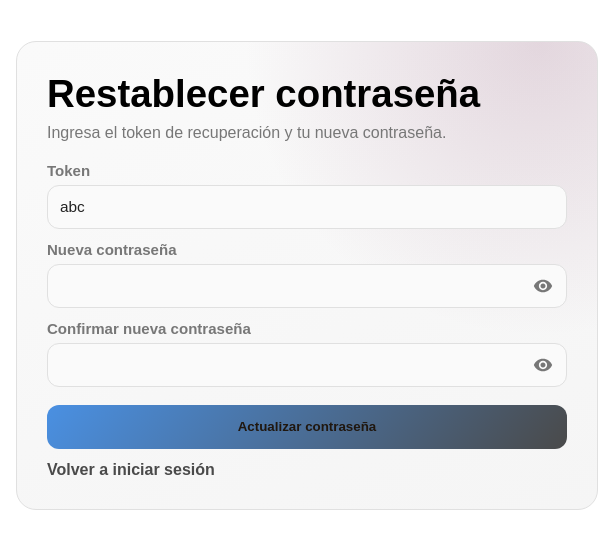
Scenario: ResetPasswordView › valida y restablece
This screenshot has width=615, height=552.
Click the button "Actualizar contraseña" at (307, 426), box [47, 404, 567, 448]
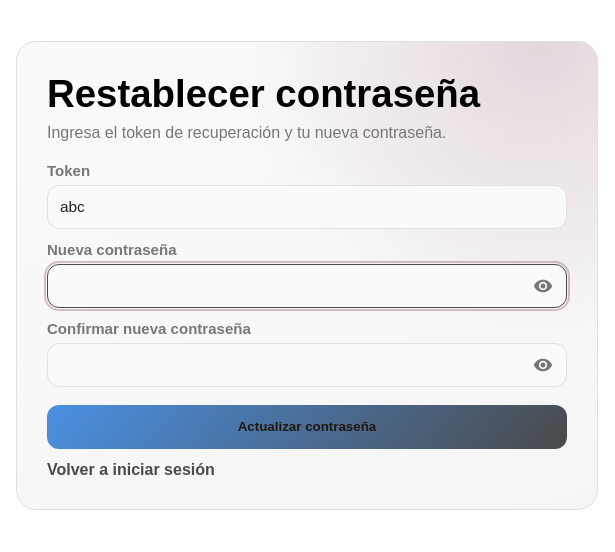
Type "Secret123" into the password field labelled "Nueva contraseña" at (307, 286), box [47, 264, 567, 308]
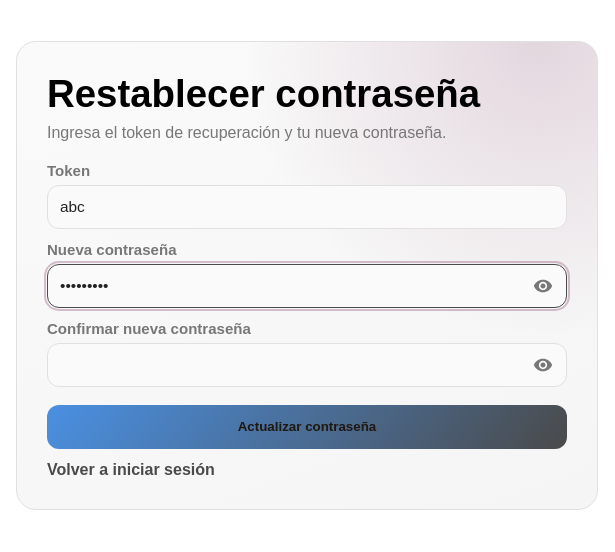
Type "Secret123" into the password field labelled "Confirmar nueva contraseña" at (307, 364), box [47, 342, 567, 386]
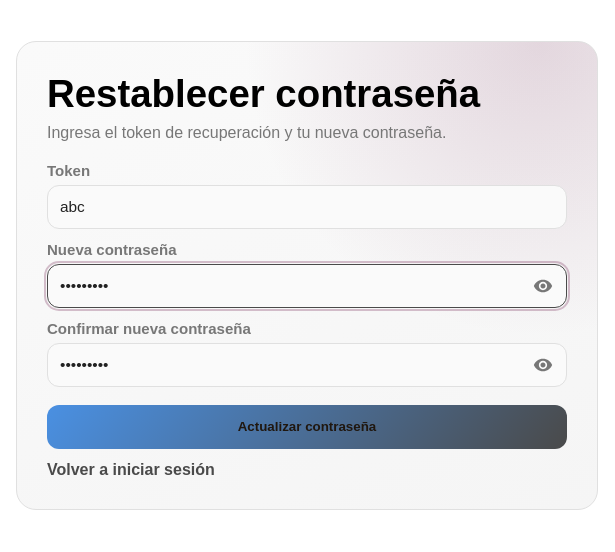
Click the button "Actualizar contraseña" at (307, 426), box [47, 404, 567, 448]
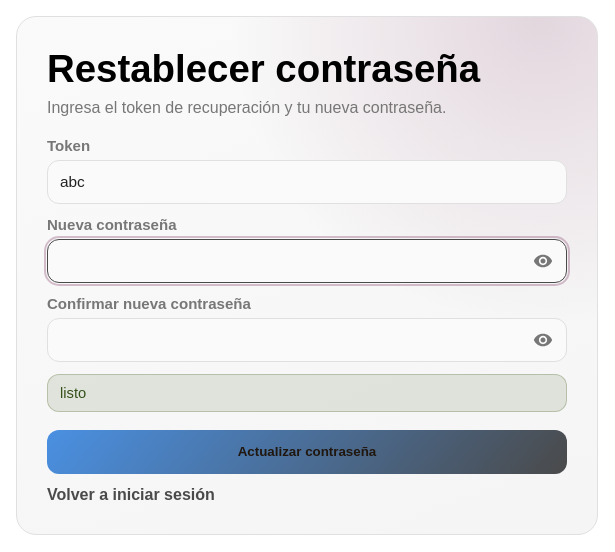
Expected: the text "listo" is shown, [47, 374, 567, 412]
